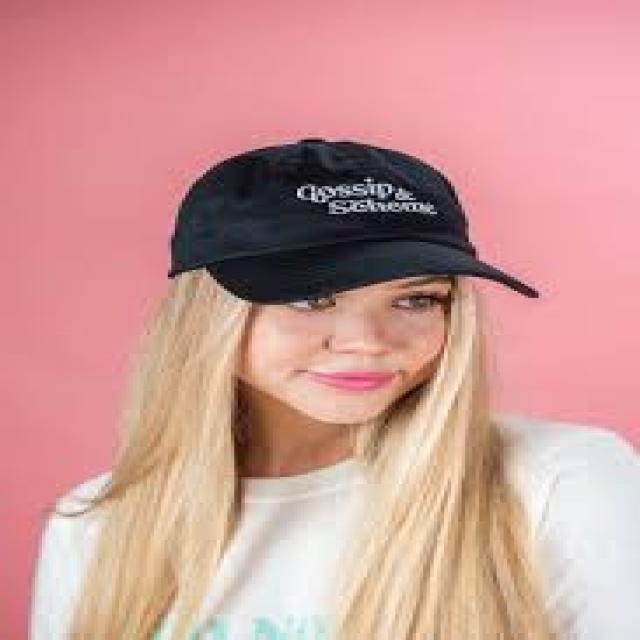cap: (143, 124, 558, 330)
